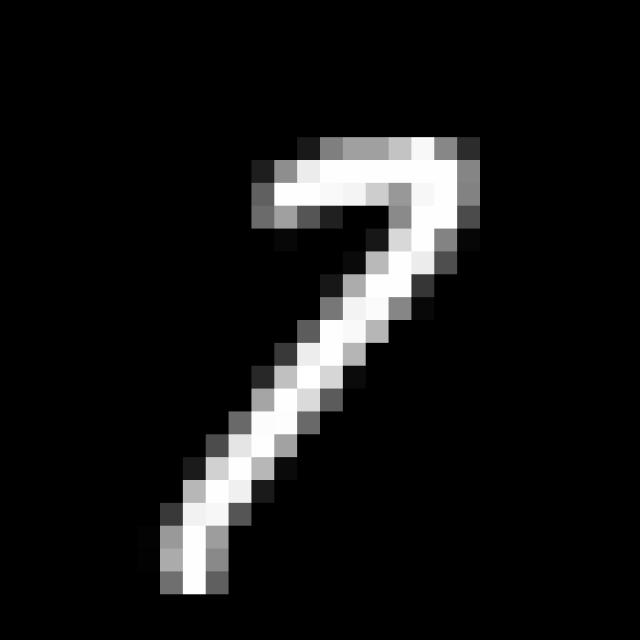seven -7-: (155, 126, 487, 602)
